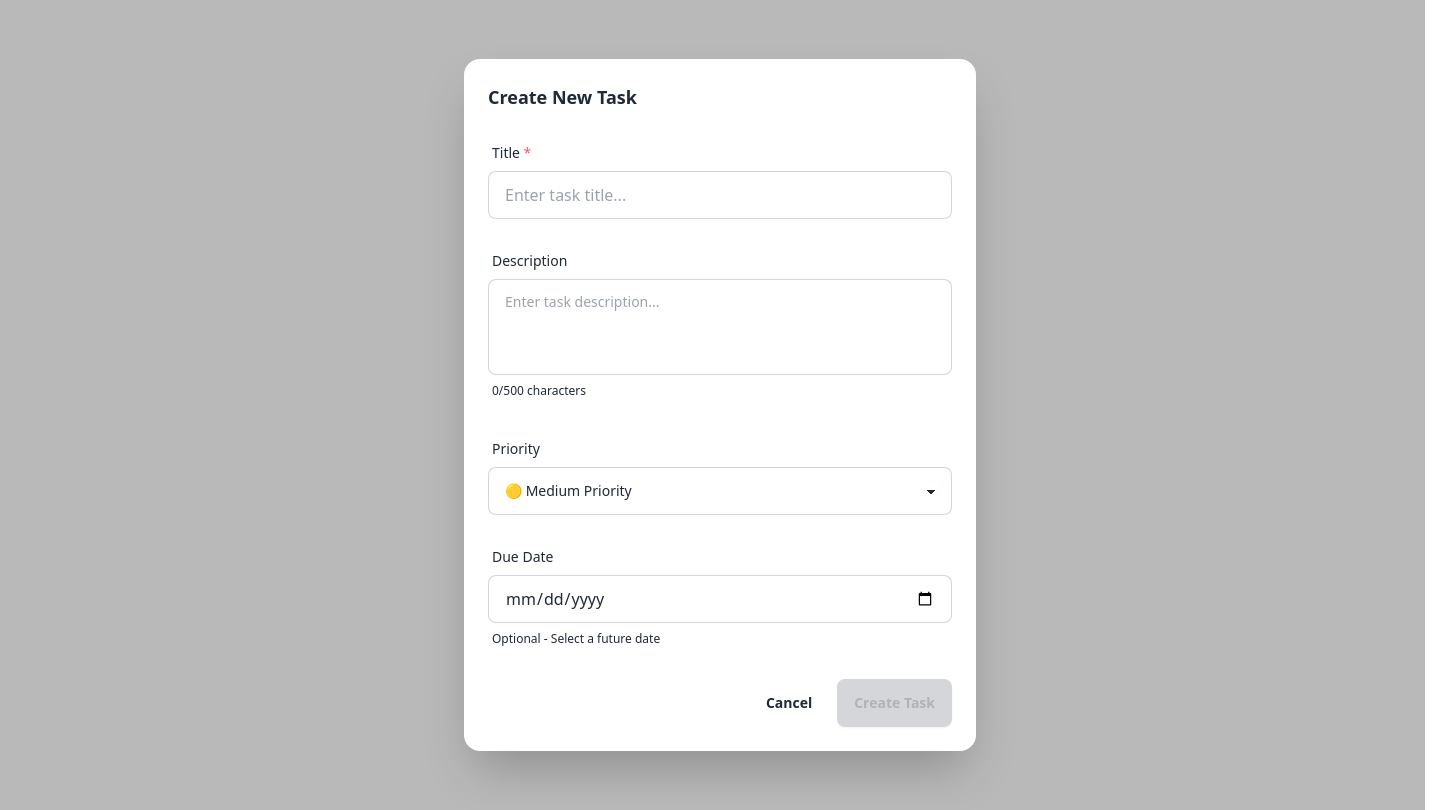
Scenario: TaskCreationModal › handles cancel button
The image size is (1440, 810).
Expected: the heading "Create New Task" is shown, [488,85,637,109]
# Fill out form partially
Step 1. Type "Test Task" into the field labelled "Title *" → (720, 195), box [488,171,952,219]
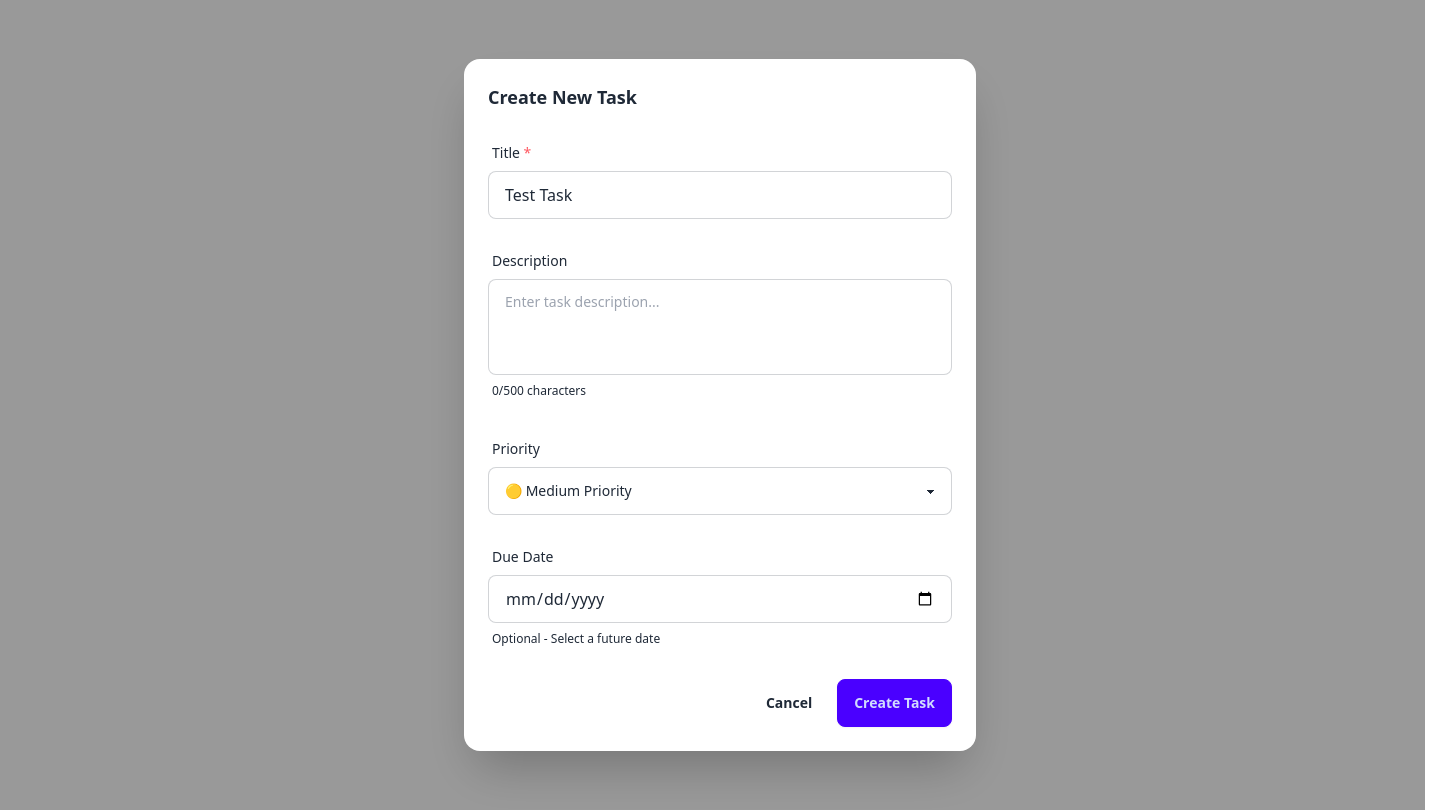
# Click cancel
Step 2. Click the button "Cancel" → (789, 703), box [749,679,829,727]
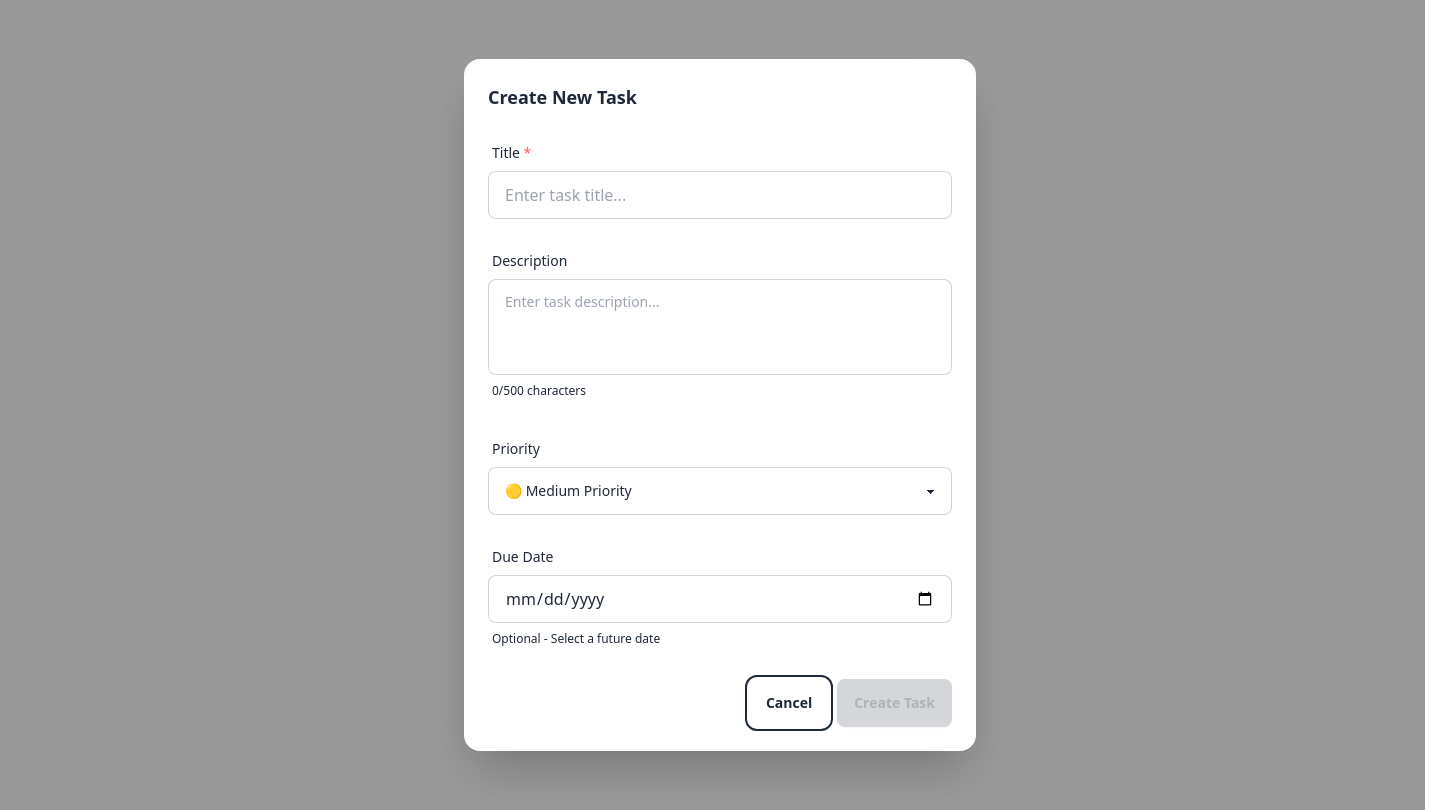
Result: the field labelled "Title *" is empty at [488,171,952,219]
